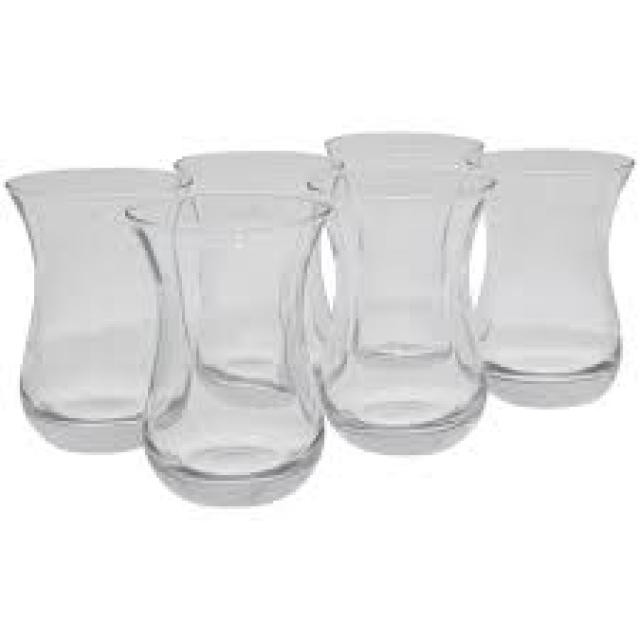glass: (9, 134, 631, 503)
